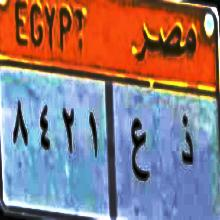1: (84, 109, 104, 170)
2: (61, 104, 78, 163)
4: (37, 103, 53, 162)
8: (12, 94, 29, 158)
ain: (129, 113, 150, 198)
zaal: (175, 113, 195, 175)
